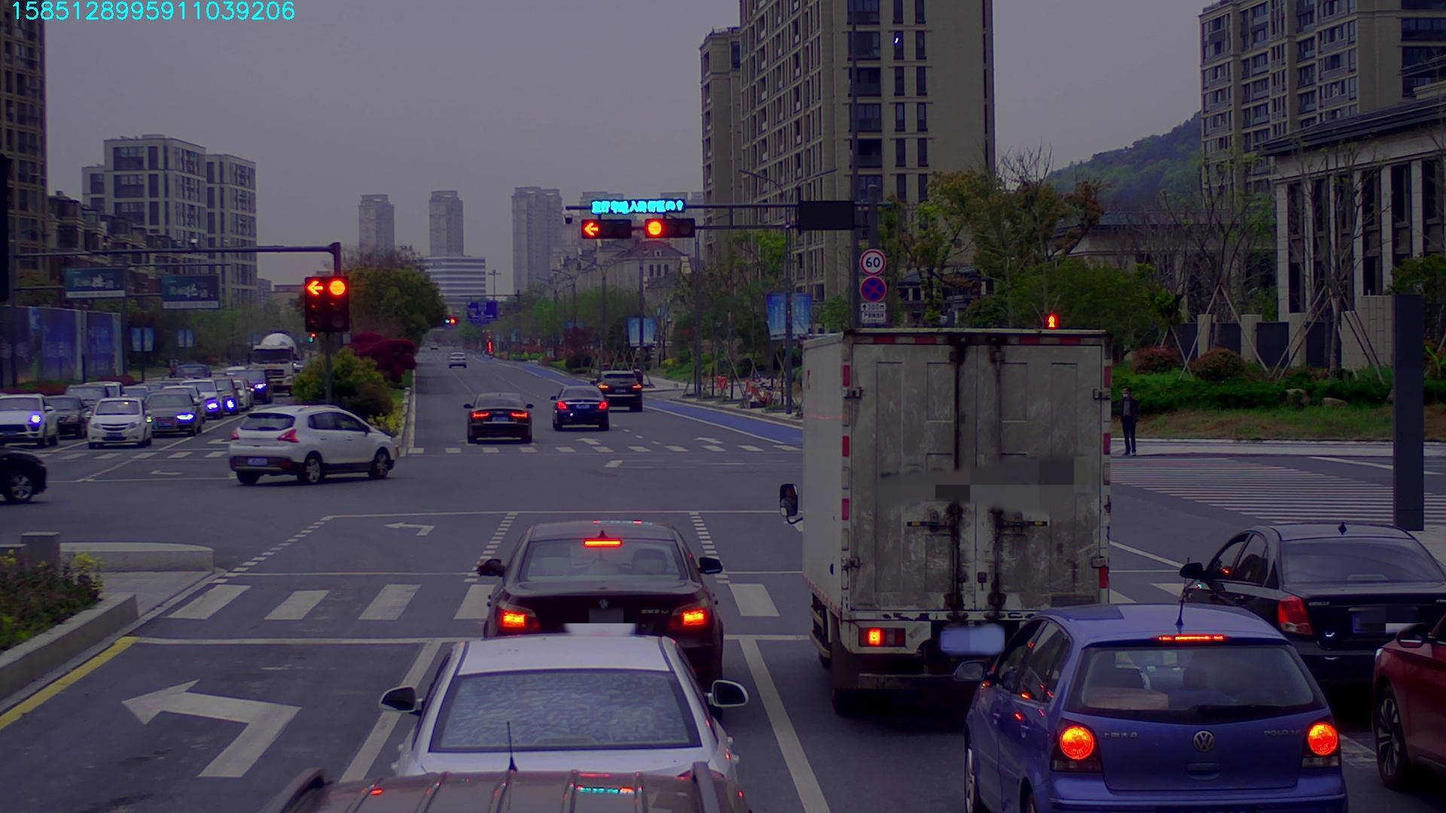red: (649, 218, 700, 239), (578, 224, 633, 242)
wait_on: (592, 198, 685, 213)
